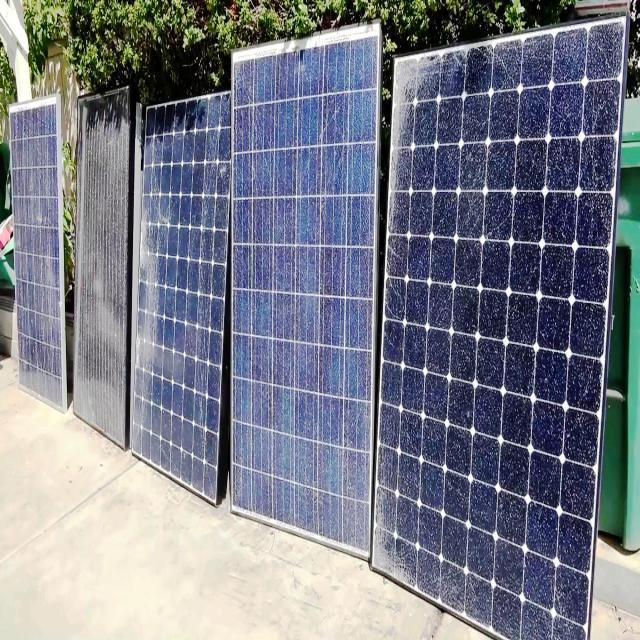faulty: (372, 12, 631, 623), (230, 30, 380, 582), (129, 86, 229, 507), (72, 83, 132, 453), (6, 93, 70, 424)
